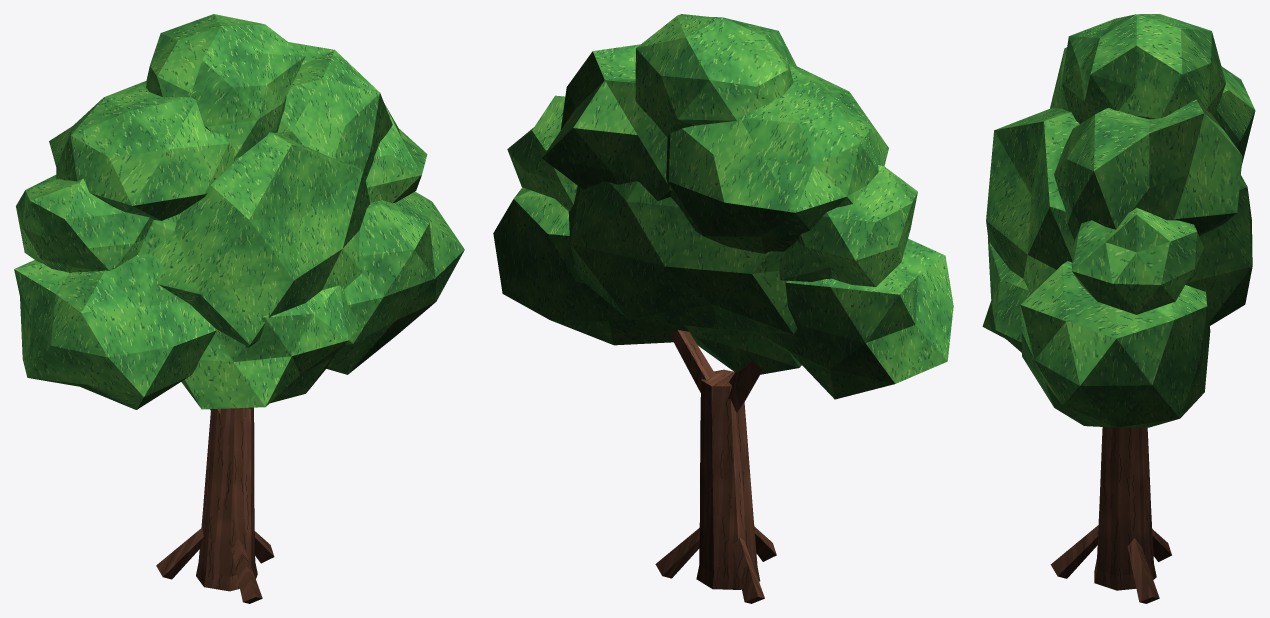
File: tree_oak.glb
3 renders of one model, left to right at view 1: azimuth 30°, elevation 25°; view 2: azimuth 150°, elevation 25°; view 3: azimuth 270°, elevation 25°, orthographic. The views are drawn at different scales.
Visible parts, largest first — view 1: tree_oak; view 2: tree_oak; view 3: tree_oak.
Part boxes in pixels (x1,y1,x2,y2): tree_oak: (14, 14, 464, 603); tree_oak: (493, 14, 953, 603); tree_oak: (982, 14, 1255, 603).
Bounding box in the file's own units: 1.99 × 2.48 × 1.08.
4 materials, 4 textured.
